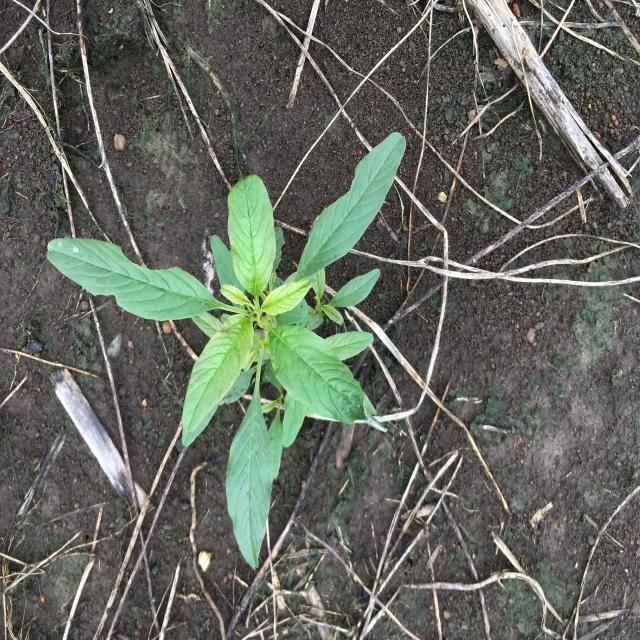Waterhemp: (46, 132, 406, 569)
